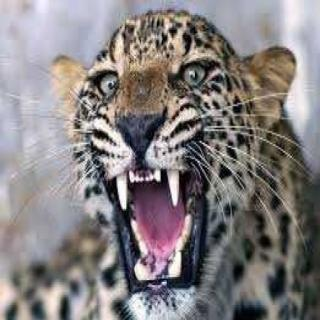Leopard: (48, 0, 320, 320)
